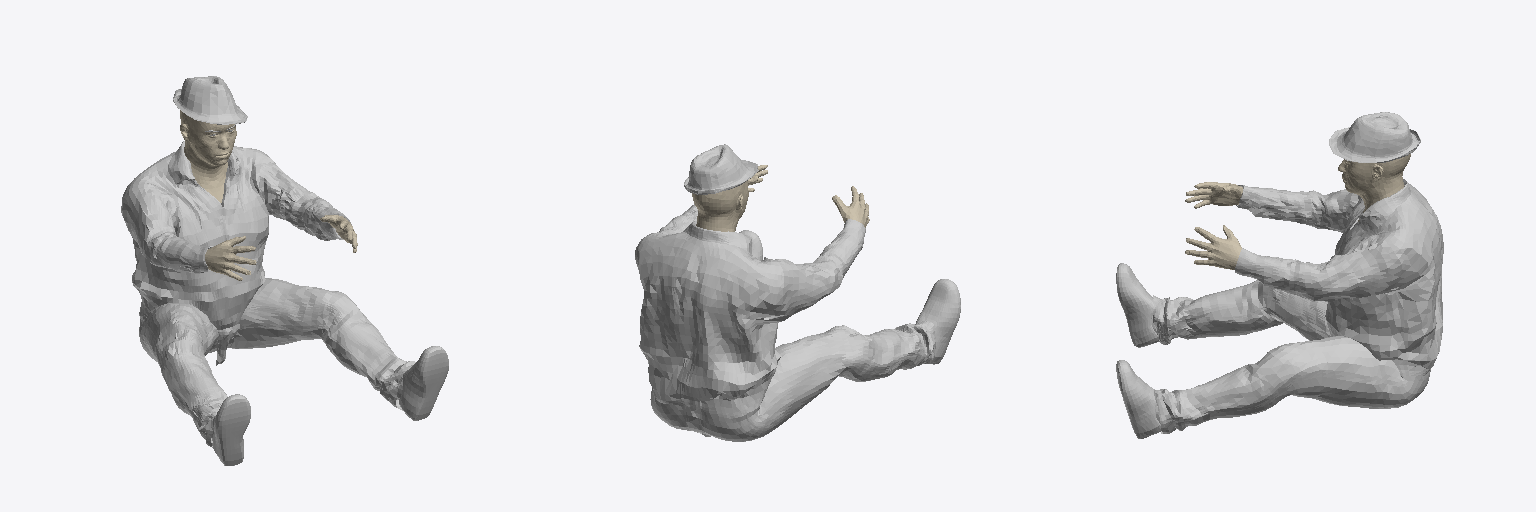
The model's file is king-pin.obj.
3 views of the same model, side by side, from view 1: azimuth 30°, elevation 25°; view 2: azimuth 150°, elevation 25°; view 3: azimuth 270°, elevation 25° (orthographic).
Parts seen in each view (by area): view 1: male_casualsuit01Mesh_male_casualsuit01.001, kingpin_1Mesh_kingpin_1.001, shoes05Mesh_shoes05.001, fedora_cockedMesh_fedora_cocked.001; view 2: male_casualsuit01Mesh_male_casualsuit01.001, kingpin_1Mesh_kingpin_1.001, fedora_cockedMesh_fedora_cocked.001, shoes05Mesh_shoes05.001; view 3: male_casualsuit01Mesh_male_casualsuit01.001, kingpin_1Mesh_kingpin_1.001, shoes05Mesh_shoes05.001, fedora_cockedMesh_fedora_cocked.001.
Part boxes in pixels (bbox=[...]): male_casualsuit01Mesh_male_casualsuit01.001: bbox=[121, 141, 415, 447]; kingpin_1Mesh_kingpin_1.001: bbox=[180, 110, 357, 280]; shoes05Mesh_shoes05.001: bbox=[211, 346, 448, 465]; fedora_cockedMesh_fedora_cocked.001: bbox=[173, 76, 247, 124]; male_casualsuit01Mesh_male_casualsuit01.001: bbox=[635, 204, 935, 441]; kingpin_1Mesh_kingpin_1.001: bbox=[692, 165, 869, 231]; fedora_cockedMesh_fedora_cocked.001: bbox=[684, 144, 758, 194]; shoes05Mesh_shoes05.001: bbox=[739, 230, 960, 364]; male_casualsuit01Mesh_male_casualsuit01.001: bbox=[1153, 179, 1443, 433]; kingpin_1Mesh_kingpin_1.001: bbox=[1185, 154, 1410, 269]; shoes05Mesh_shoes05.001: bbox=[1116, 263, 1160, 438]; fedora_cockedMesh_fedora_cocked.001: bbox=[1329, 112, 1420, 162].
Size of the model in its own units: 0.7672 by 0.8883 by 0.939.